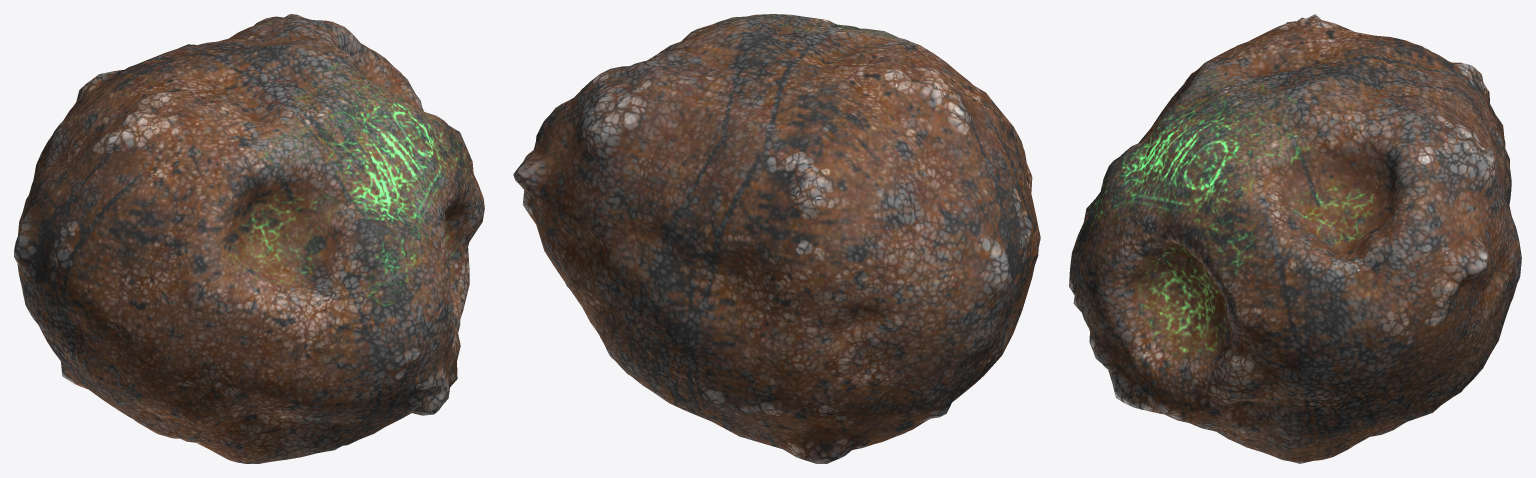
File: metal_asteroid.glb
3 renders of one model, left to right at view 1: azimuth 30°, elevation 25°; view 2: azimuth 150°, elevation 25°; view 3: azimuth 270°, elevation 25°, orthographic. The views are drawn at different scales.
Parts seen in each view (by area): view 1: Object_2; view 2: Object_2; view 3: Object_2.
Boxes of the visible parts, left/top/right/bottom form: Object_2: left=14, top=14, right=484, bottom=463; Object_2: left=513, top=14, right=1040, bottom=463; Object_2: left=1069, top=14, right=1521, bottom=463.
Bounding box in the file's own units: 97.09 × 78.95 × 87.3.
Materials: 1 (1 with a texture image).
